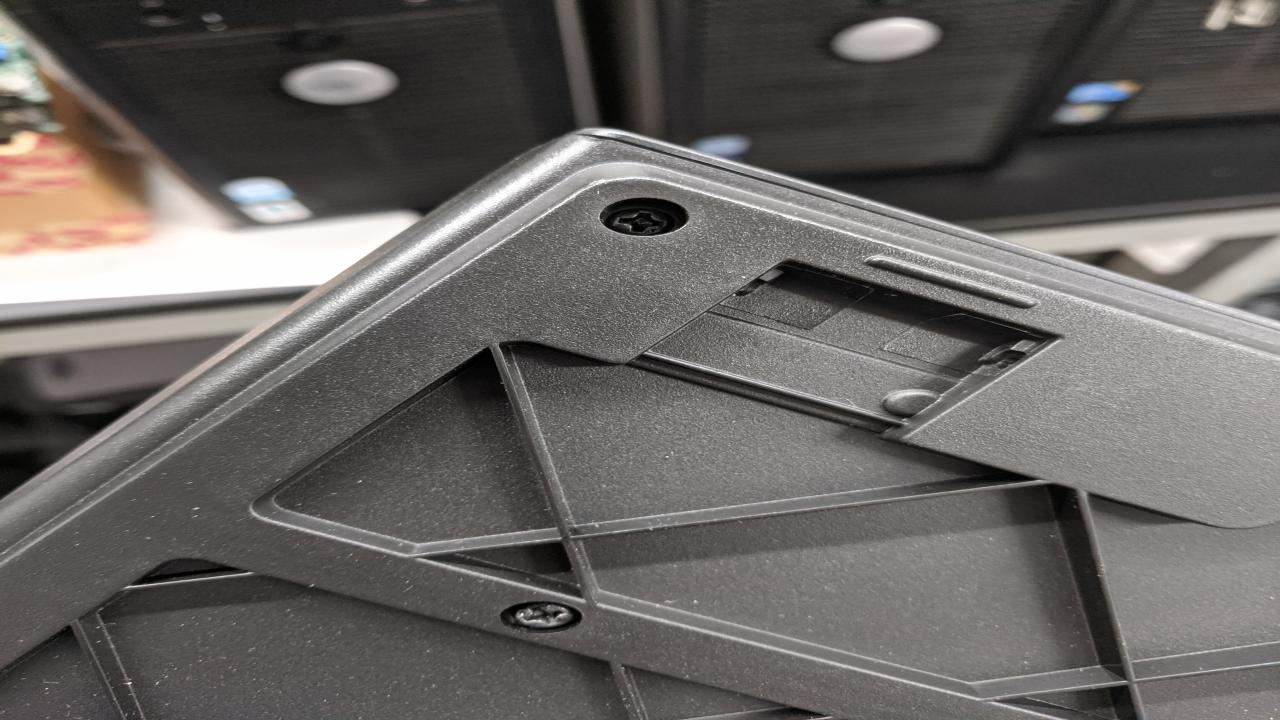CRS: (608, 204, 677, 241), (509, 600, 578, 632)
